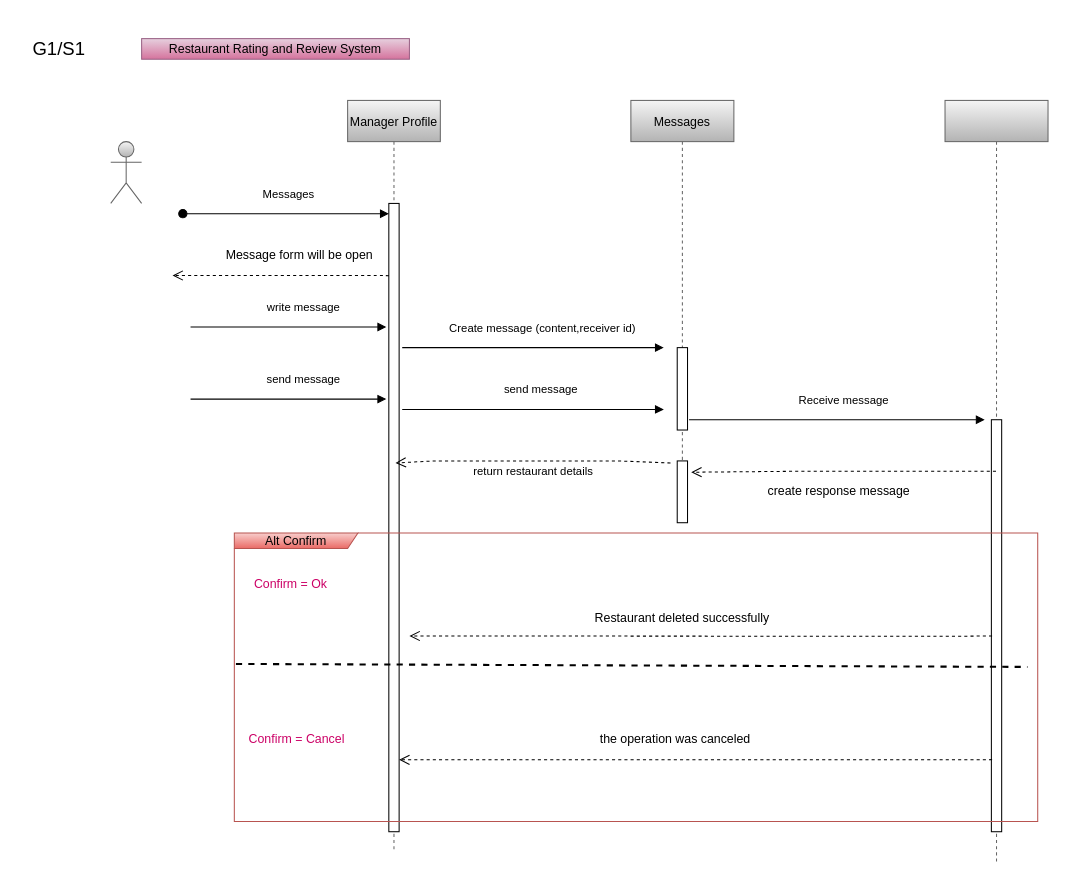
Image size: 1066x881. Some labels were removed from this diagram. Each missing label, with the box of its shape:
Manager: (110, 141, 142, 203)
Restaurant owner: (944, 99, 1048, 863)
